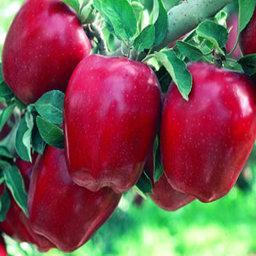apple: (62, 58, 161, 191), (163, 62, 256, 201), (29, 142, 122, 251), (1, 3, 91, 104)
